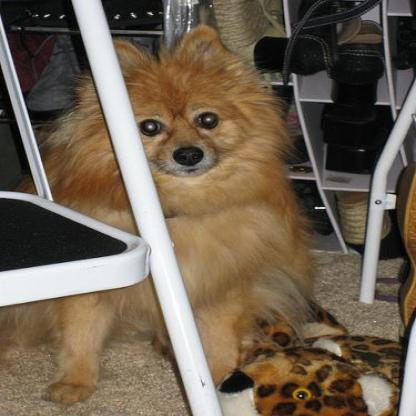Pomeranian: (0, 21, 316, 411)
